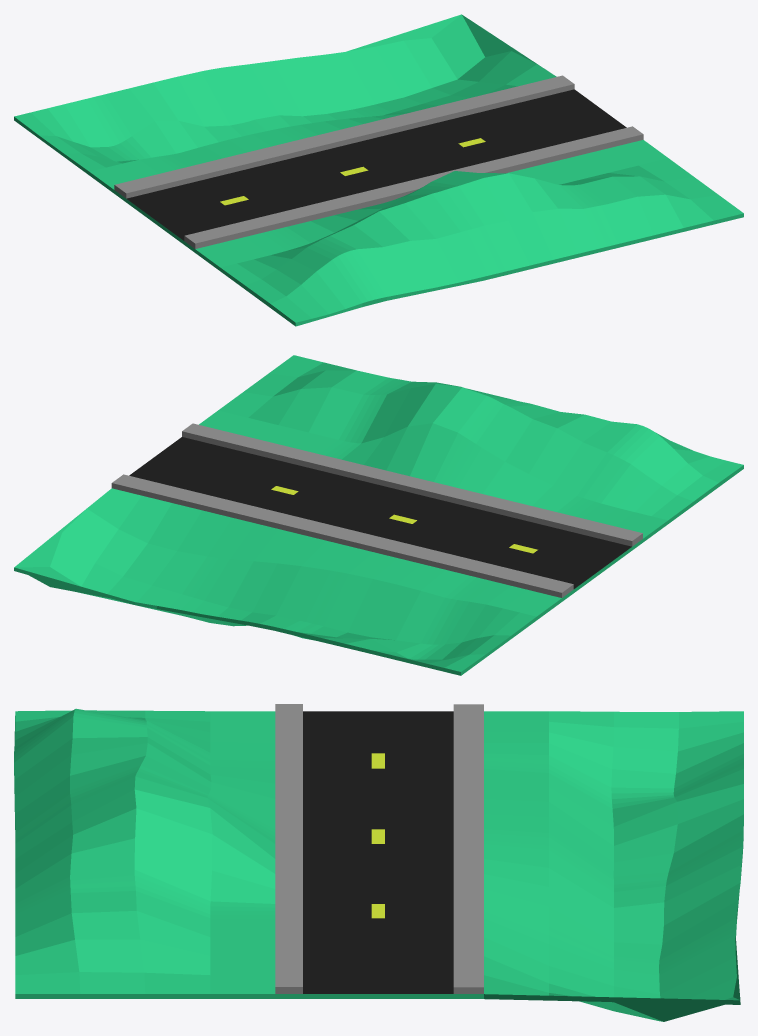
File: road.fbx
3 renders of one model, top to bottom at view 1: azimuth 30°, elevation 25°; view 2: azimuth 150°, elevation 25°; view 3: azimuth 270°, elevation 25°, orthographic. The views are drawn at different scales.
Parts seen in each view (by area): view 1: Cube; view 2: Cube; view 3: Cube.
Boxes of the visible parts, box(x1,y1,x2,y2) form: Cube: box(14, 14, 743, 326); Cube: box(14, 355, 743, 675); Cube: box(14, 704, 743, 1021).
Bounding box in the file's own units: 2260 × 2073 × 434.
